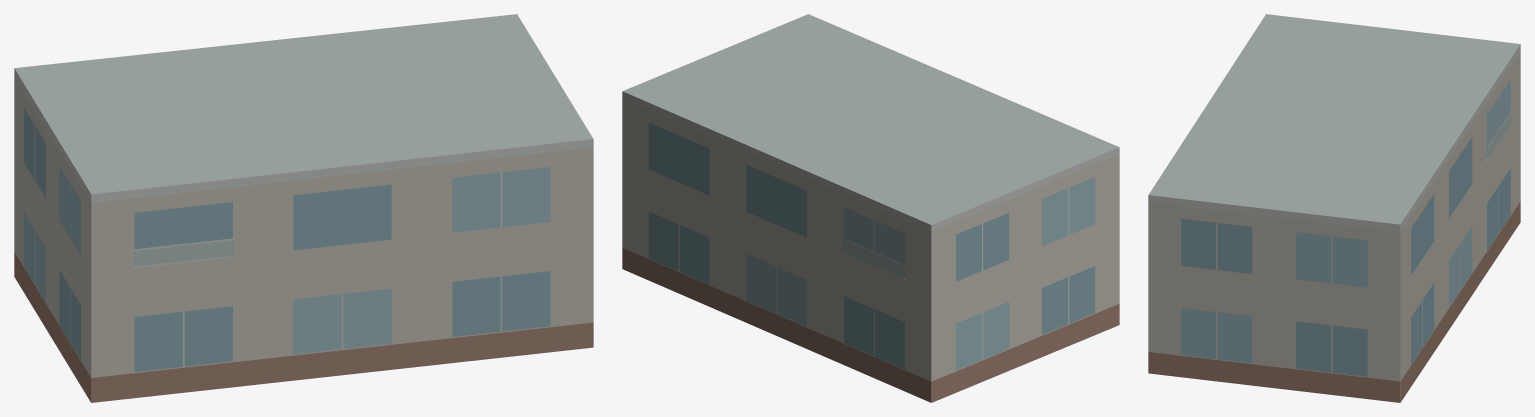
The model's file is survey-upis-33022745.glb.
3 views of the same model, side by side, from view 1: azimuth 30°, elevation 25°; view 2: azimuth 150°, elevation 25°; view 3: azimuth 270°, elevation 25° (orthographic). The views are drawn at different scales.
Parts seen in each view (by area): view 1: survey-upis-33022745.tmp; view 2: survey-upis-33022745.tmp; view 3: survey-upis-33022745.tmp.
Boxes of the visible parts, left/top/right/bottom form: survey-upis-33022745.tmp: left=14, top=14, right=593, bottom=402; survey-upis-33022745.tmp: left=622, top=14, right=1119, bottom=402; survey-upis-33022745.tmp: left=1148, top=14, right=1520, bottom=402.
Bounding box in the file's own units: 15.46 × 6.1 × 11.55.
